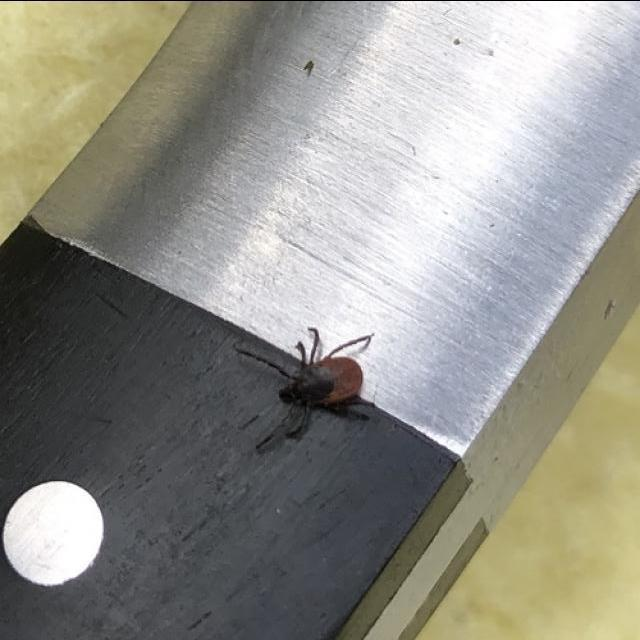Ixodes Ricinus-F: (236, 325, 376, 451)
